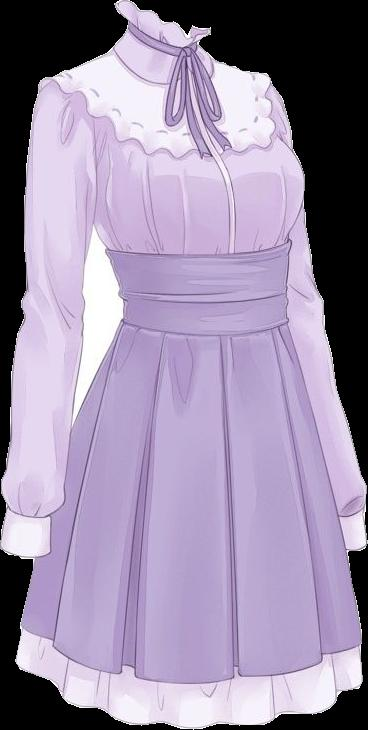Bodice: (42, 0, 304, 337)
Hemline: (10, 655, 364, 729), (15, 622, 365, 688)
Neckline: (114, 44, 219, 89), (105, 241, 289, 261), (113, 0, 209, 36)
Skirt: (15, 321, 361, 727)
Sleeve: (0, 72, 95, 558)
Sleeveline: (47, 77, 103, 204), (2, 503, 54, 522)
Waistline: (53, 68, 277, 162), (117, 316, 292, 344)
